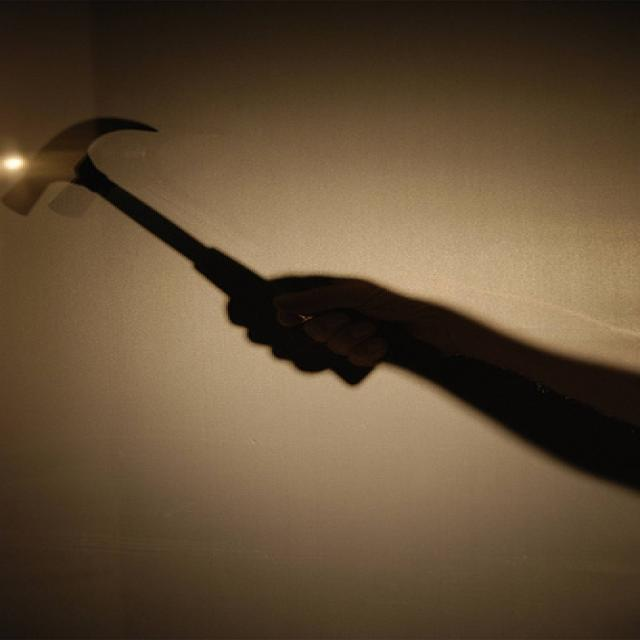hammer: (1, 110, 382, 387)
